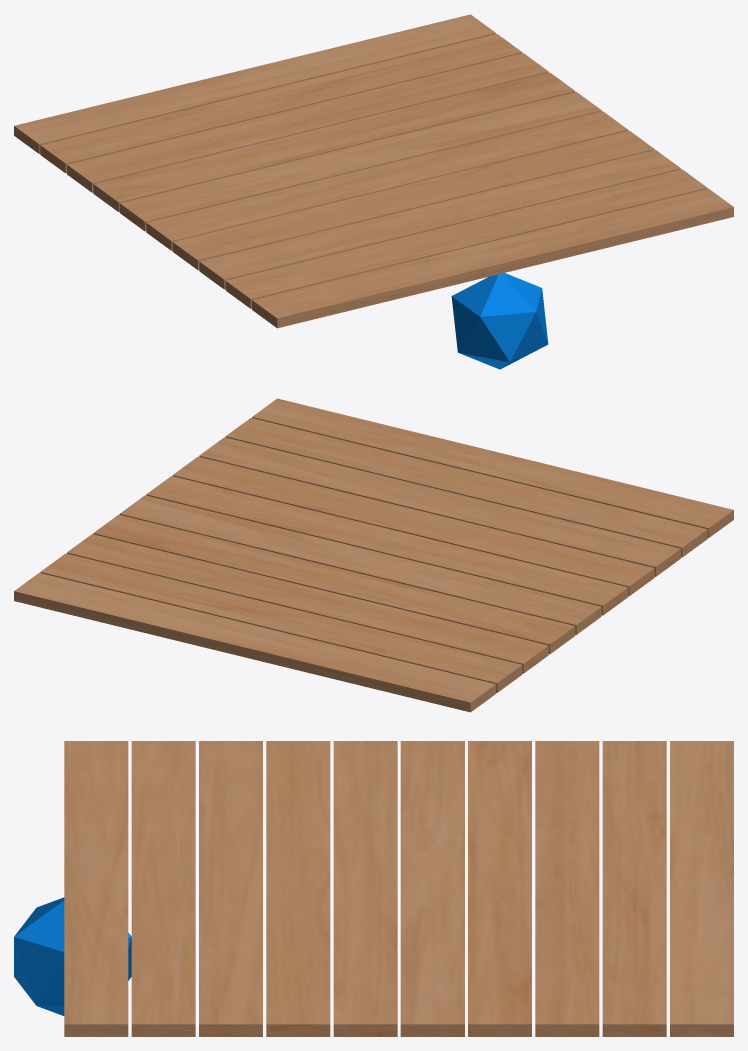
Rendered from DT half floor kit.glb.
3 renders of one model, top to bottom at view 1: azimuth 30°, elevation 25°; view 2: azimuth 150°, elevation 25°; view 3: azimuth 270°, elevation 25°, orthographic. The views are drawn at different scales.
Visible parts, largest first — view 1: DT half floor kit, Joint.031; view 2: DT half floor kit; view 3: DT half floor kit, Joint.031.
Boxes of the visible parts, left/top/right/bottom form: DT half floor kit: left=14, top=14, right=733, bottom=328; Joint.031: left=451, top=273, right=548, bottom=369; DT half floor kit: left=14, top=398, right=733, bottom=712; DT half floor kit: left=64, top=741, right=733, bottom=1036; Joint.031: left=14, top=897, right=131, bottom=1015.
Size of the model in its own units: 1.48 by 0.3359 by 1.59.
Materials: 2 (1 with a texture image).
